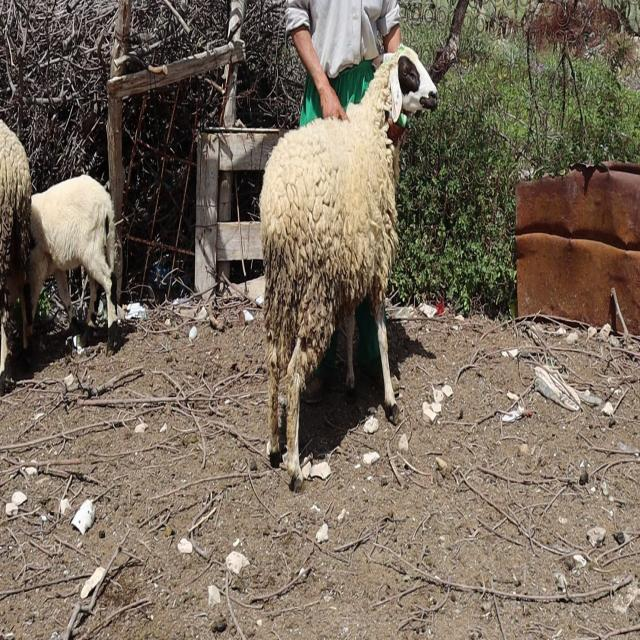Score_3: (259, 45, 438, 489)
